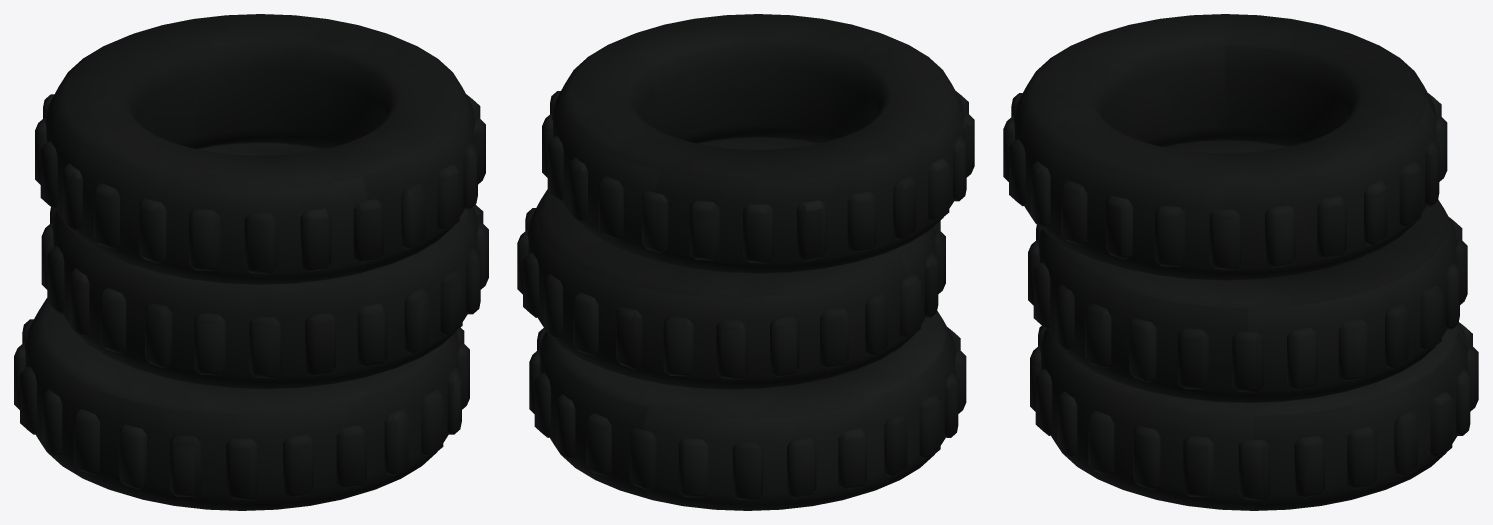
File: tires-3.glb
3 views of the same model, side by side, from view 1: azimuth 30°, elevation 25°; view 2: azimuth 150°, elevation 25°; view 3: azimuth 270°, elevation 25° (orthographic). The views are drawn at different scales.
Visible parts, largest first — view 1: tires-3; view 2: tires-3; view 3: tires-3.
Boxes of the visible parts, x1,y1,x2,y2 form: tires-3: (14, 14, 488, 510); tires-3: (517, 14, 974, 510); tires-3: (1003, 14, 1478, 510).
Bounding box in the file's own units: 0.5308 × 0.42 × 0.5401.
1 material, 1 textured.
